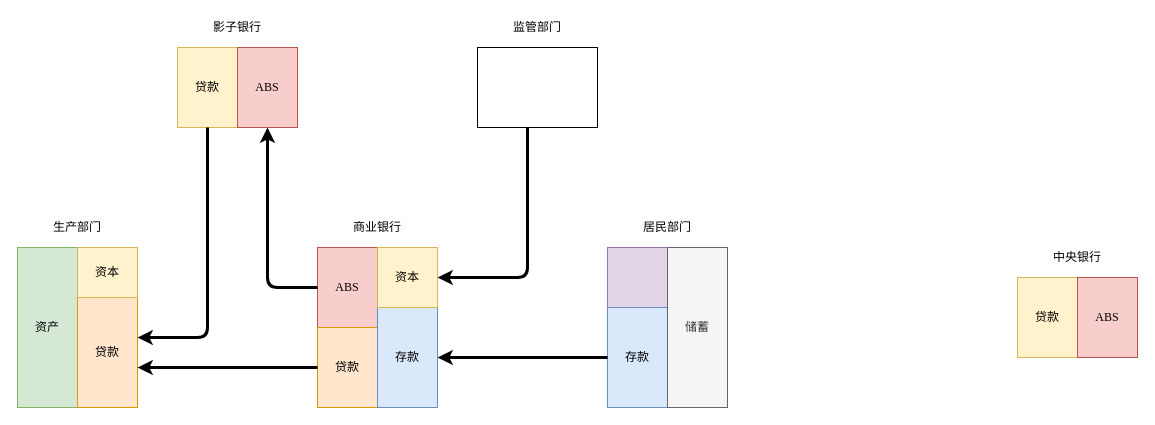
Some shapes in this 1155 by 425 pixel diagram are drawn without their labels. The centre of each missing label's shape, as x and y in pixels:
宏观审慎政策: pixel 537 87
私人投资: pixel 637 277
